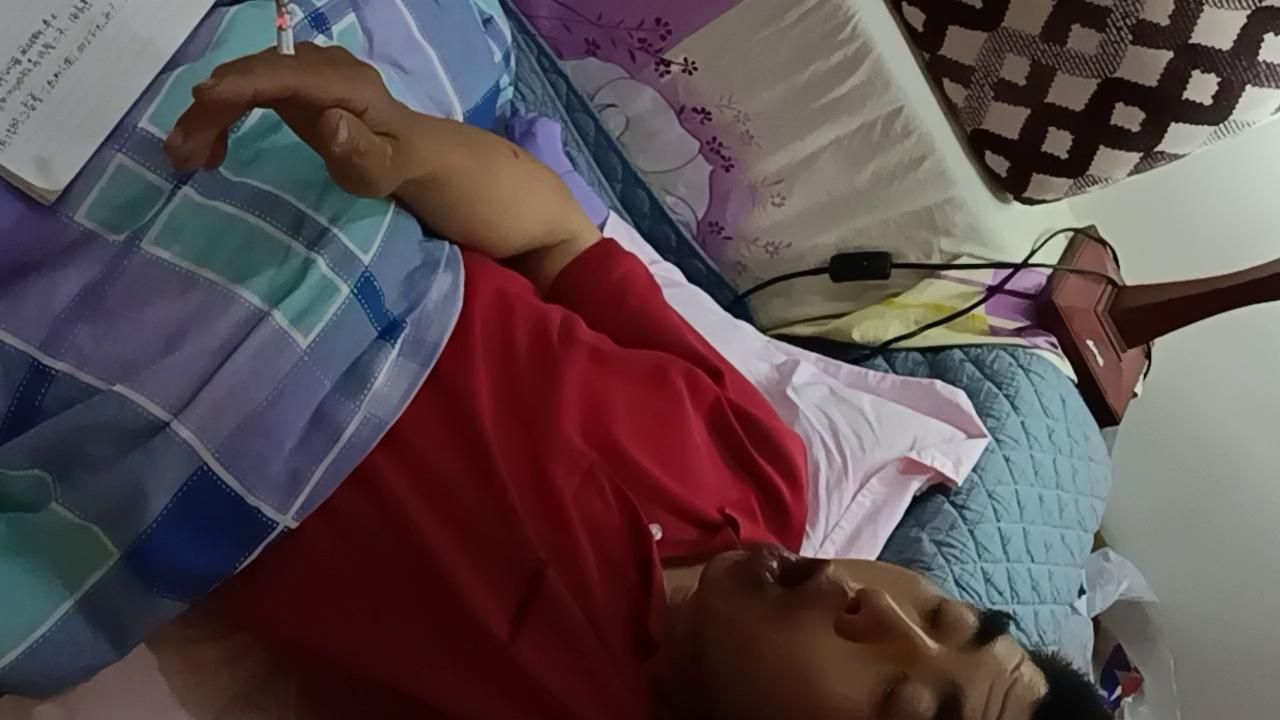smoke: (274, 0, 299, 76)
